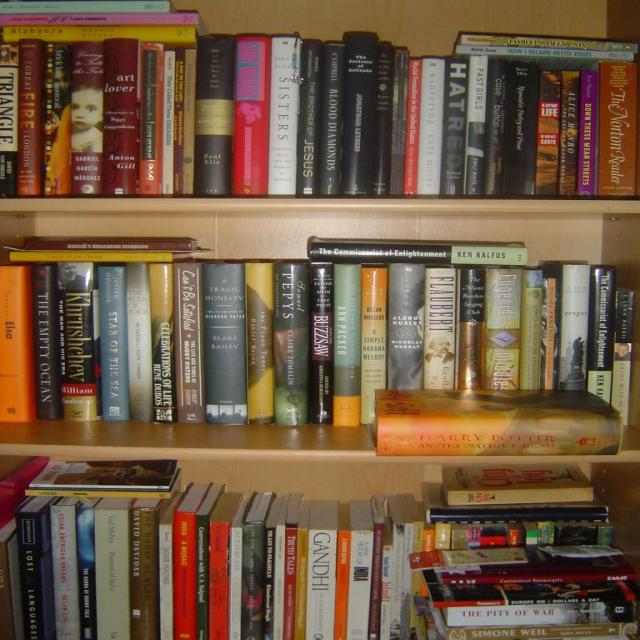book: (378, 418, 621, 458), (375, 389, 622, 418), (204, 265, 245, 425), (61, 262, 101, 419), (172, 483, 209, 639), (15, 496, 54, 639), (200, 36, 235, 193), (275, 264, 309, 425), (102, 39, 137, 193), (448, 602, 639, 629), (174, 263, 205, 426), (311, 243, 527, 265), (96, 510, 130, 639), (348, 33, 375, 193), (334, 265, 361, 424), (126, 264, 152, 422), (298, 41, 324, 198), (443, 463, 593, 490), (19, 39, 43, 194), (32, 460, 174, 486), (446, 58, 471, 195), (308, 530, 338, 639), (375, 44, 396, 196), (612, 293, 636, 414), (400, 59, 421, 197), (458, 45, 635, 61), (77, 508, 98, 639), (450, 488, 596, 506), (0, 12, 200, 25), (208, 520, 229, 639), (243, 521, 264, 639), (433, 596, 633, 608), (26, 239, 192, 250), (370, 522, 385, 639), (0, 2, 170, 12), (160, 524, 174, 639), (31, 484, 168, 490)
